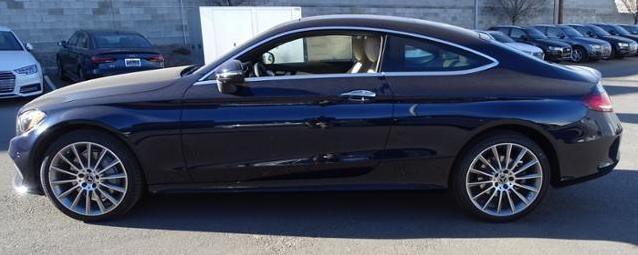C300Coupe: (8, 12, 628, 229)
